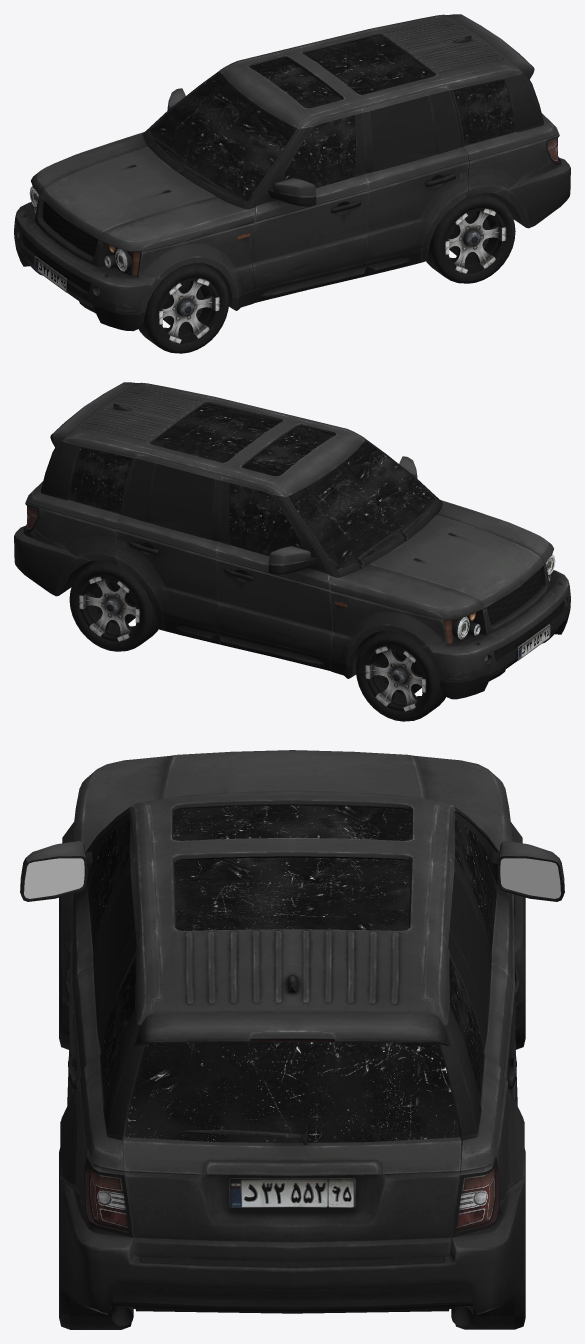
Rendered from suv.glb.
3 views of the same model, one above another, from view 1: azimuth 30°, elevation 25°; view 2: azimuth 150°, elevation 25°; view 3: azimuth 270°, elevation 25° (orthographic). The views are drawn at different scales.
Parts seen in each view (by area): view 1: Mesh_0055.001_0, Mesh_0063.001_0, Mesh_0126.001_0, Mesh_0051.001_0; view 2: Mesh_0055.001_0, Mesh_0063.001_0, Mesh_0126.001_0, Mesh_0051.001_0; view 3: Mesh_0055.001_0, Mesh_0063.001_0, Mesh_0126.001_0, Mesh_0051.001_0, Mesh_0128.001_0.
Boxes of the visible parts, x1,y1,x2,y2 form: Mesh_0055.001_0: (14,14,570,353); Mesh_0063.001_0: (149,36,515,201); Mesh_0126.001_0: (167,88,368,302); Mesh_0051.001_0: (362,86,469,276); Mesh_0055.001_0: (14,382,570,721); Mesh_0063.001_0: (69,404,435,569); Mesh_0126.001_0: (216,456,417,670); Mesh_0051.001_0: (115,454,222,644); Mesh_0055.001_0: (59,750,525,1329); Mesh_0063.001_0: (87,805,497,1142); Mesh_0126.001_0: (20,812,564,1105); Mesh_0051.001_0: (61,860,523,1119); Mesh_0128.001_0: (24,858,560,898).
Size of the model in its own units: 10.61 by 4.09 by 5.22.
Materials: 4 (3 with a texture image).
